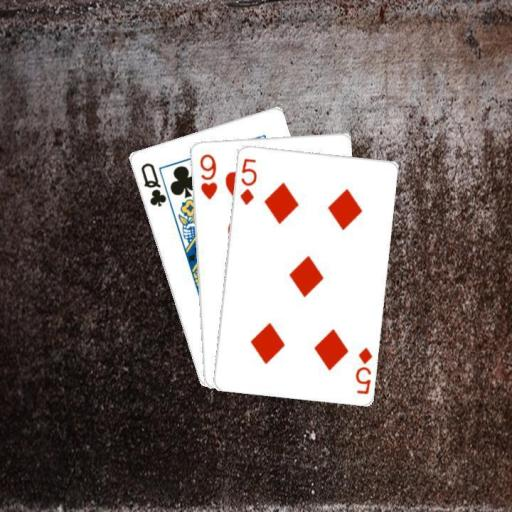card-corner: (137, 160, 167, 208), (352, 344, 374, 396), (196, 150, 218, 201), (236, 155, 258, 206)
